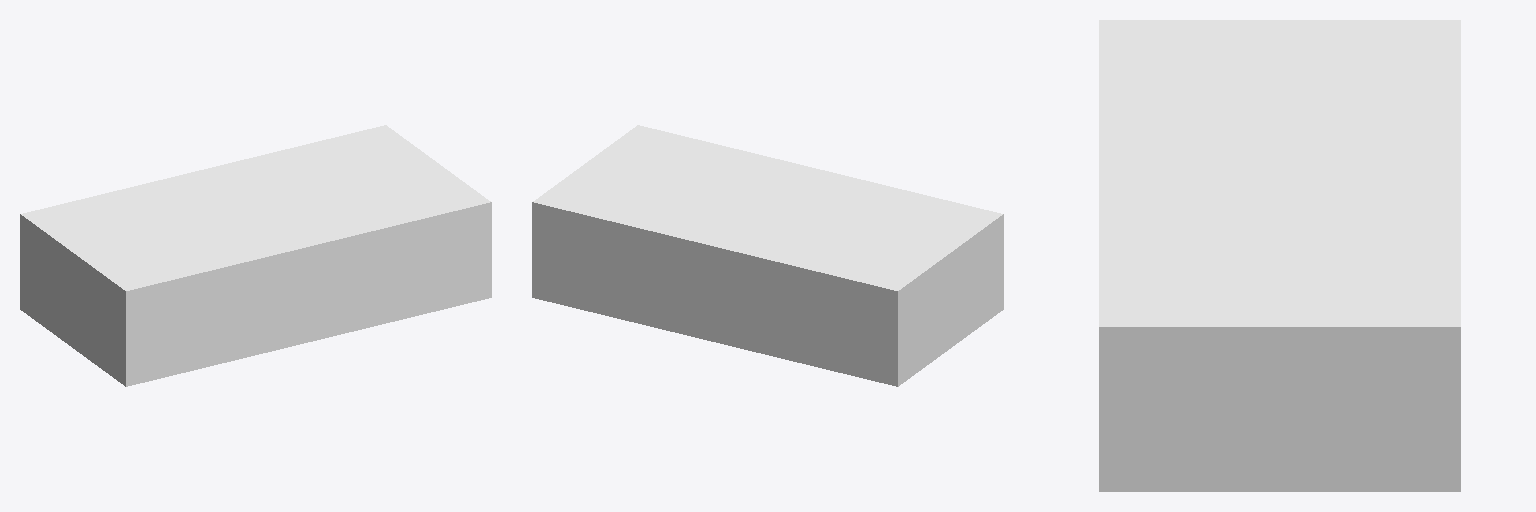
URDF robot description (wall):
<?xml version="1.0" ?>
<robot name="wall">
  <link name="baseLink">
     <contact>
      <lateral_friction value="1"/>
  </contact>
    <inertial>
      <origin rpy="0 0 0" xyz="0 0 0"/>
       <mass value="1.0"/>
       <inertia ixx="100" ixy="0" ixz="0" iyy="100" iyz="0" izz="100"/>
    </inertial>
    <visual>
      <origin rpy="0 0 0" xyz="0 0 0"/>
      <geometry>
				<mesh filename="goal.obj" scale="1 1 1"/>
      </geometry>
       <material name="white">
        <color rgba="1 1 1 1"/>
      </material>
    </visual>
    <collision group="0" mask="0">
      <origin rpy="0 0 0" xyz="0 0 0"/>
      <geometry>
	 	<box size="2 2 1"/>
      </geometry>
    </collision>
  </link>
</robot>

--- Render facts (derived) ---
3 views of the same robot in one strip: view 1: azimuth 30°, elevation 25°; view 2: azimuth 150°, elevation 25°; view 3: azimuth 270°, elevation 25° (orthographic).
Robot: wall — 1 links, 0 joints (none); root link baseLink; default pose: all joints at 0.
Links seen in each view (by area): view 1: baseLink; view 2: baseLink; view 3: baseLink.
Link boxes in pixels (bbox=[...]): baseLink: bbox=[20, 125, 491, 386]; baseLink: bbox=[532, 125, 1003, 386]; baseLink: bbox=[1099, 20, 1460, 491].
Bounding box of the posed robot: 4 × 2 × 1 m (x, y, z).
Meshes: 1 distinct files referenced, 1 mesh visuals loaded (1 OBJ).